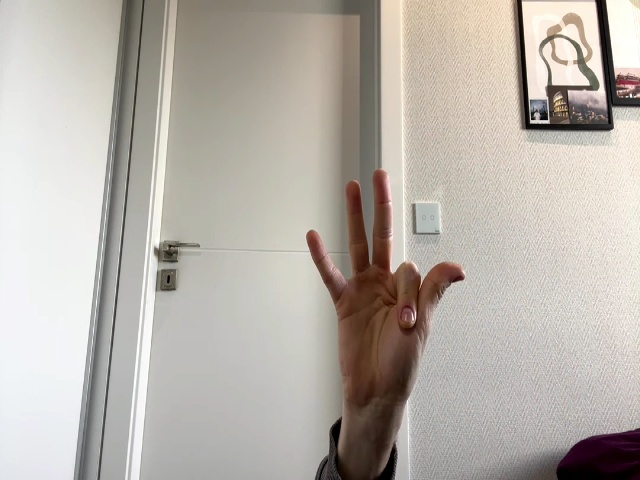F: (307, 168, 466, 379)
